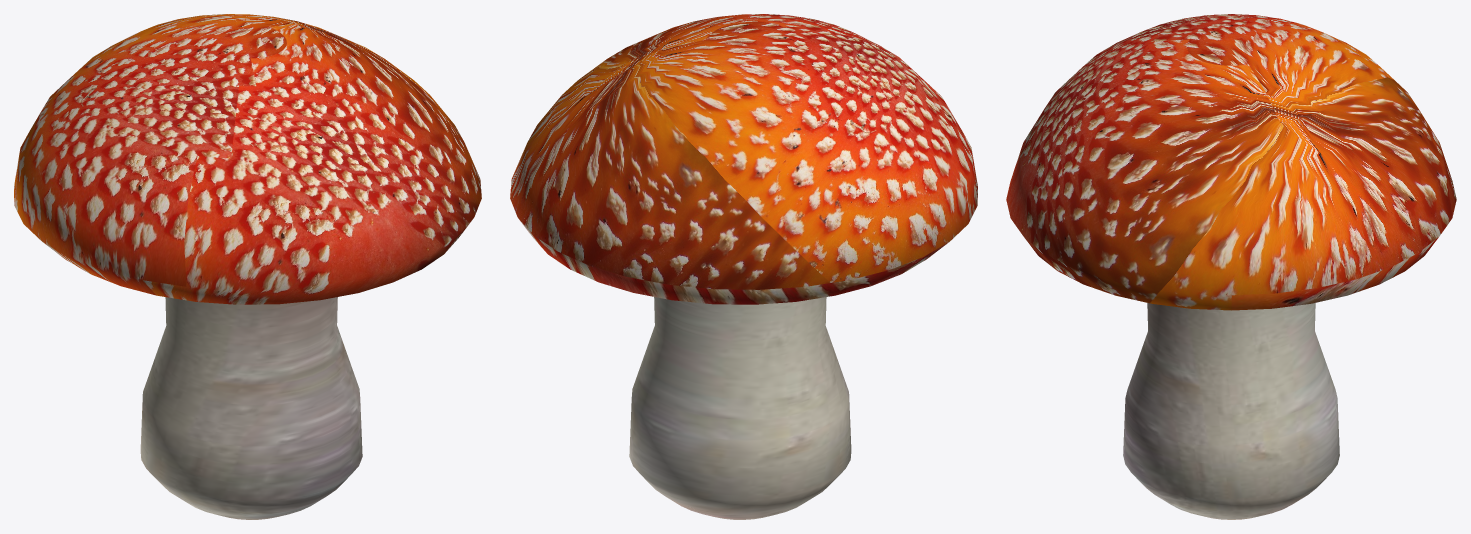
Rendered from Mushroom.fbx.
3 renders of one model, left to right at view 1: azimuth 30°, elevation 25°; view 2: azimuth 150°, elevation 25°; view 3: azimuth 270°, elevation 25°, orthographic. The views are drawn at different scales.
Parts seen in each view (by area): view 1: Sphere001; view 2: Sphere001; view 3: Sphere001.
Boxes of the visible parts, <box> form: Sphere001: <box>14,14,481,519</box>; Sphere001: <box>510,14,977,519</box>; Sphere001: <box>1006,14,1456,519</box>.
Bounding box in the file's own units: 39.49 × 43.57 × 38.61.
Materials: 3 (3 with a texture image).
